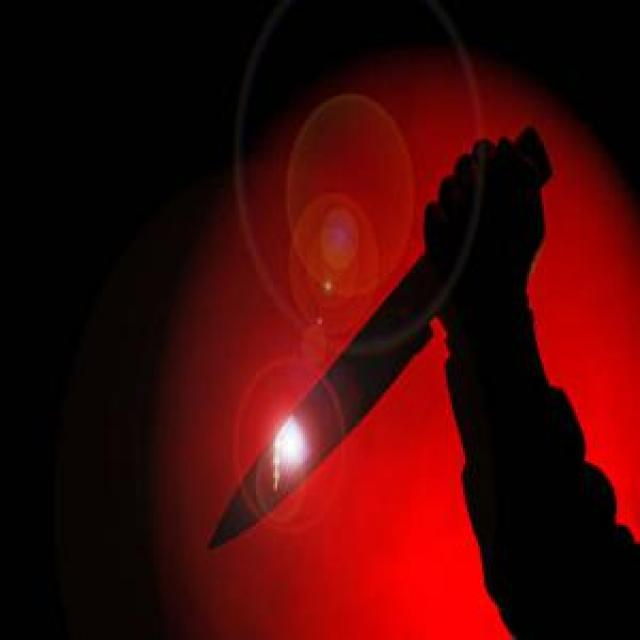knife: (207, 111, 556, 555)
